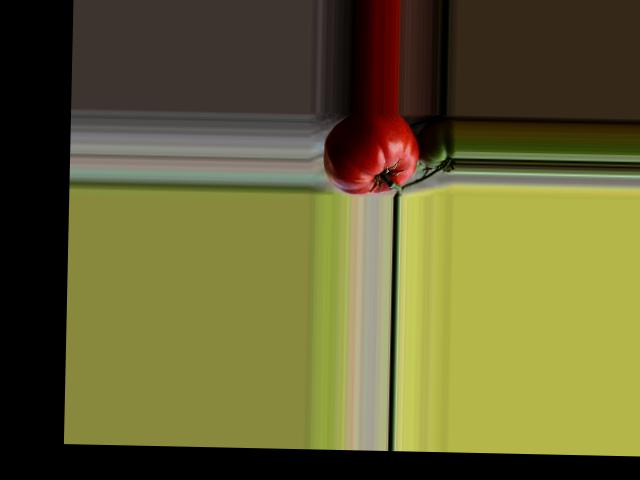tomato: (322, 111, 419, 195)
